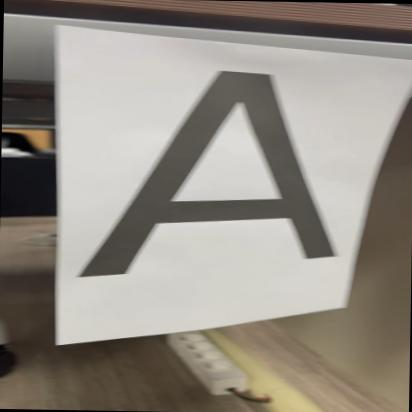seat: (70, 58, 348, 282)
